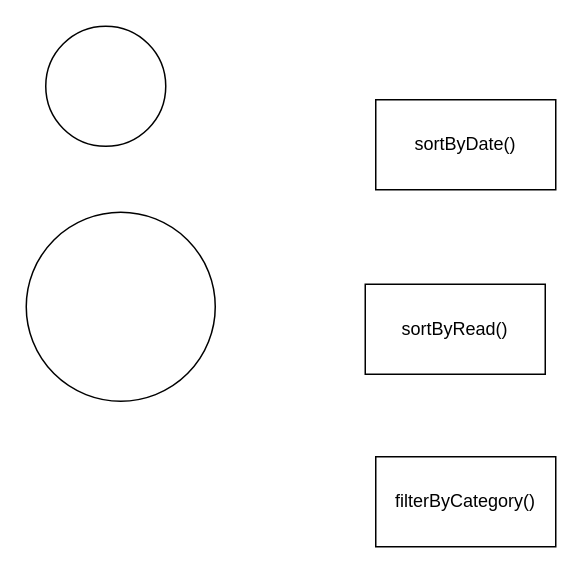
The diagram is 582 pixels wide and 573 high, and some of its shapes have lost their labels. Each missing label, with the centre of its shape:
"bookData" goes at [105,85].
"sortedFilterBookData" goes at [120,306].
